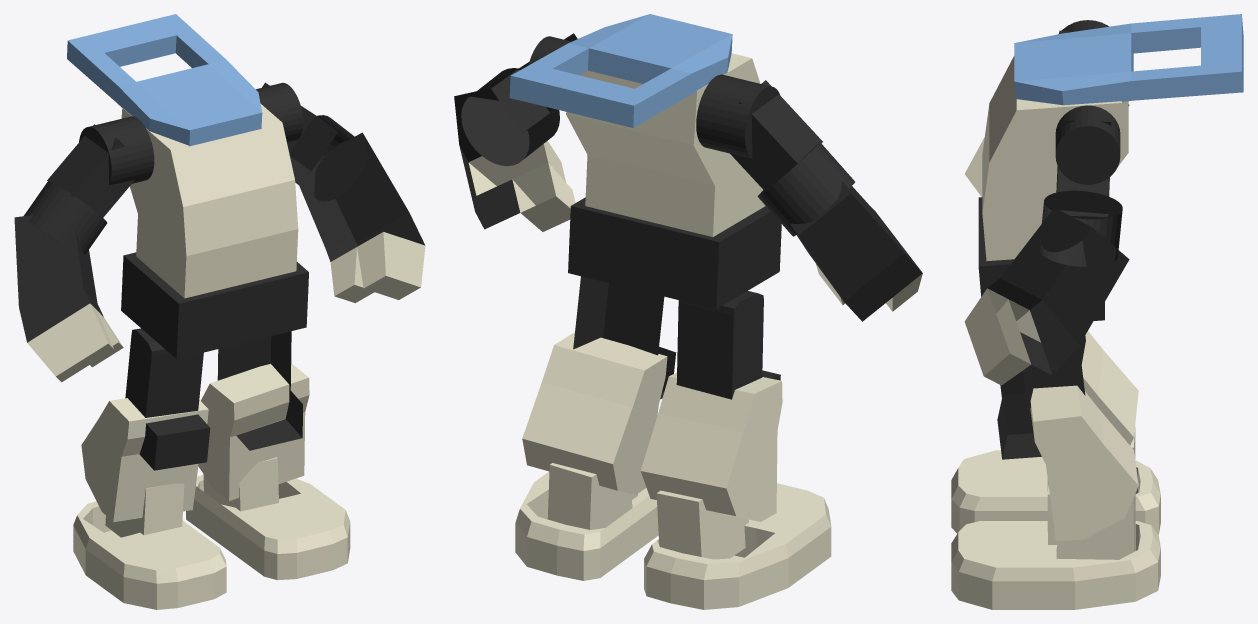
Rendered from RobiStaticBody.glb.
3 renders of one model, left to right at view 1: azimuth 30°, elevation 25°; view 2: azimuth 150°, elevation 25°; view 3: azimuth 270°, elevation 25°, orthographic. The views are drawn at different scales.
Visible parts, largest first — view 1: base_link.001, Hips, Foot Right, Left Foot, Left Calf, Leg Upper R, Right Calf, Forearm Right, Left Forearm, Upper Arm Right, Left Hand, Upper Arm Left (+6 smaller); view 2: base_link.001, Left Calf, Right Calf, Hips, Foot Right, Forearm Right, Upper Arm Right, Left Foot, Leg Upper R, Upper Arm Left, Leg Upper L, Left Hand (+5 smaller); view 3: base_link.001, Left Foot, Left Calf, Left Forearm, Foot Right, Left Hand, Left Shoulder, Upper Arm Left, Leg Upper L, Right Calf, Ankle Left, Hips (+2 smaller).
Boxes of the visible parts, left/top/right/bottom form: base_link.001: left=67, top=14, right=298, bottom=298; Hips: left=121, top=252, right=308, bottom=358; Foot Right: left=73, top=501, right=226, bottom=609; Left Foot: left=186, top=475, right=350, bottom=580; Left Calf: left=198, top=363, right=309, bottom=500; Leg Upper R: left=125, top=328, right=210, bottom=470; Right Calf: left=81, top=398, right=208, bottom=522; Forearm Right: left=14, top=215, right=103, bottom=342; Left Forearm: left=293, top=132, right=425, bottom=261; Upper Arm Right: left=24, top=124, right=134, bottom=254; Left Hand: left=330, top=232, right=425, bottom=303; Upper Arm Left: left=262, top=82, right=366, bottom=201; base_link.001: left=509, top=14, right=765, bottom=236; Left Calf: left=522, top=332, right=667, bottom=494; Right Calf: left=640, top=372, right=782, bottom=521; Hips: left=568, top=197, right=781, bottom=309; Foot Right: left=644, top=483, right=831, bottom=609; Forearm Right: left=790, top=180, right=922, bottom=321; Upper Arm Right: left=729, top=80, right=854, bottom=236; Left Foot: left=515, top=471, right=658, bottom=580; Leg Upper R: left=676, top=291, right=780, bottom=399; Upper Arm Left: left=461, top=33, right=577, bottom=166; Leg Upper L: left=573, top=276, right=676, bottom=399; Left Hand: left=468, top=141, right=575, bottom=231; base_link.001: left=982, top=14, right=1243, bottom=261; Left Foot: left=951, top=521, right=1160, bottom=609; Left Calf: left=1030, top=385, right=1138, bottom=541; Left Forearm: left=987, top=208, right=1129, bottom=375; Foot Right: left=951, top=450, right=1160, bottom=534; Left Hand: left=964, top=288, right=1040, bottom=385; Left Shoulder: left=1055, top=105, right=1120, bottom=184; Upper Arm Left: left=1039, top=120, right=1122, bottom=266; Leg Upper L: left=997, top=346, right=1085, bottom=459; Right Calf: left=1081, top=331, right=1138, bottom=445; Ankle Left: left=1047, top=485, right=1135, bottom=559; Hips: left=978, top=197, right=1104, bottom=320.
Bounding box in the file's own units: 0.281 × 0.3131 × 0.1636.
